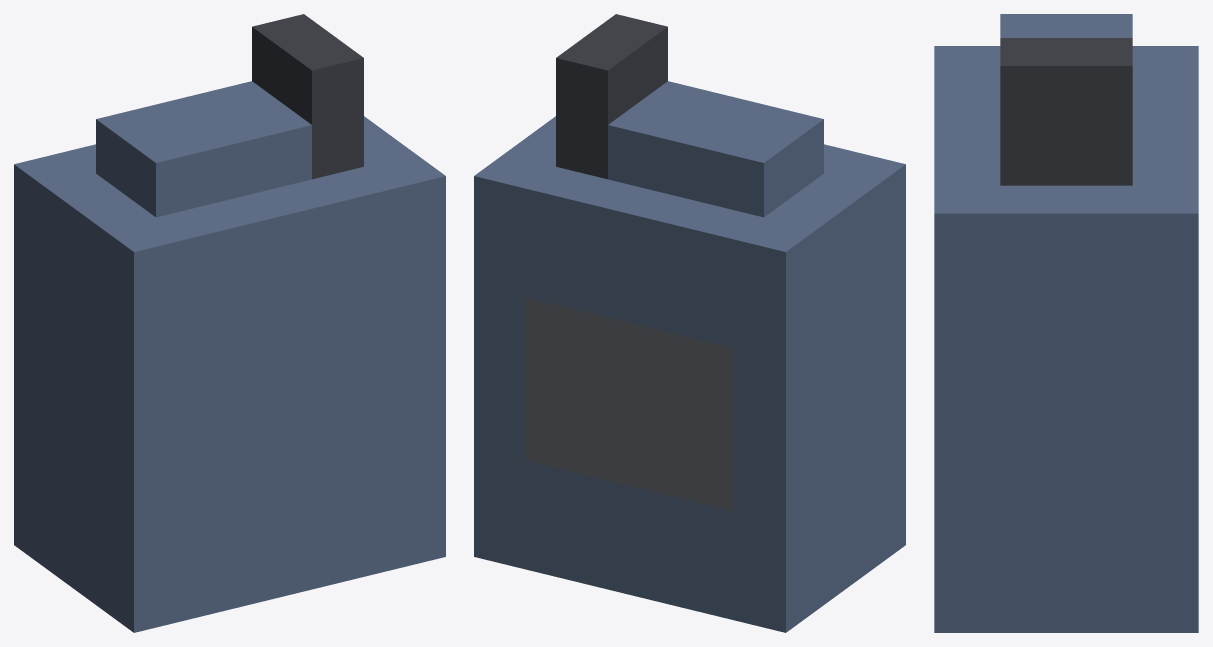
File: bidon_vide.glb
3 views of the same model, side by side, from view 1: azimuth 30°, elevation 25°; view 2: azimuth 150°, elevation 25°; view 3: azimuth 270°, elevation 25° (orthographic). The views are drawn at different scales.
Parts seen in each view (by area): view 1: main; view 2: main; view 3: main.
Part boxes in pixels (x1,y1,x2,y2): main: (14, 14, 445, 632); main: (474, 14, 905, 632); main: (934, 14, 1198, 632).
Size of the model in its own units: 0.375 by 0.5625 by 0.25.
